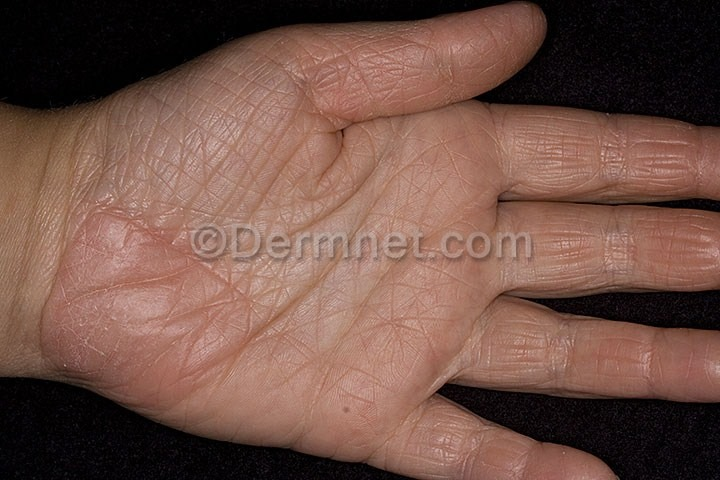Eczema: (562, 108, 720, 403), (32, 182, 242, 403), (309, 4, 554, 132)
